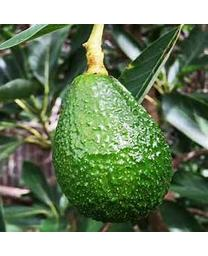avocado: (52, 73, 173, 222)
